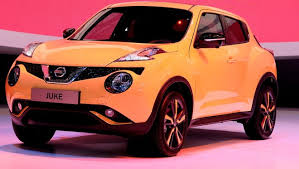Nissan: (7, 5, 275, 141)
